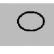no answer: (15, 10, 46, 32)
